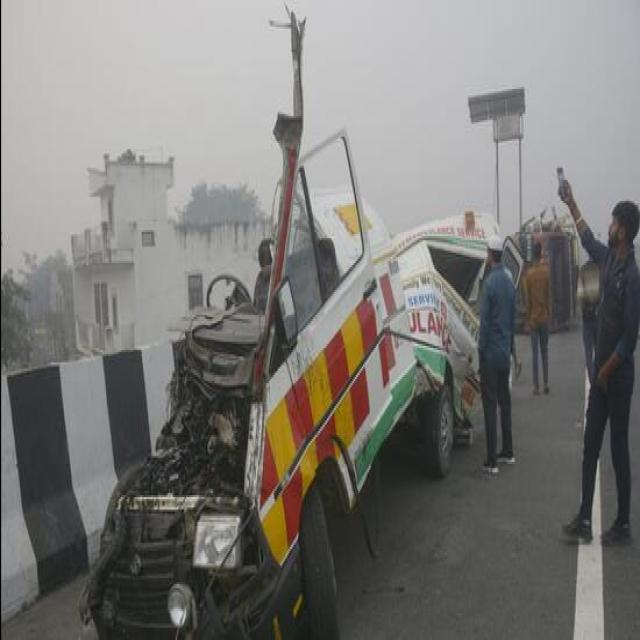accident: (80, 20, 479, 639)
